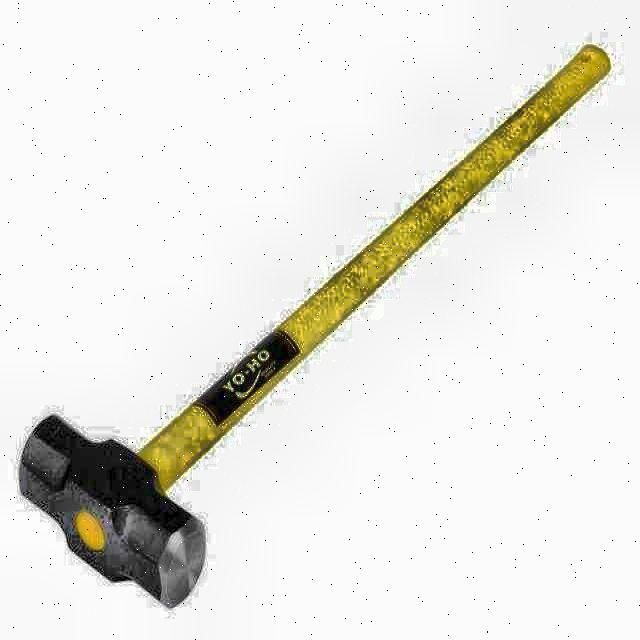hammer: (14, 41, 613, 611)
